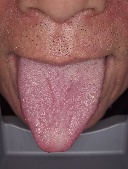tongue: (15, 68, 105, 153)
